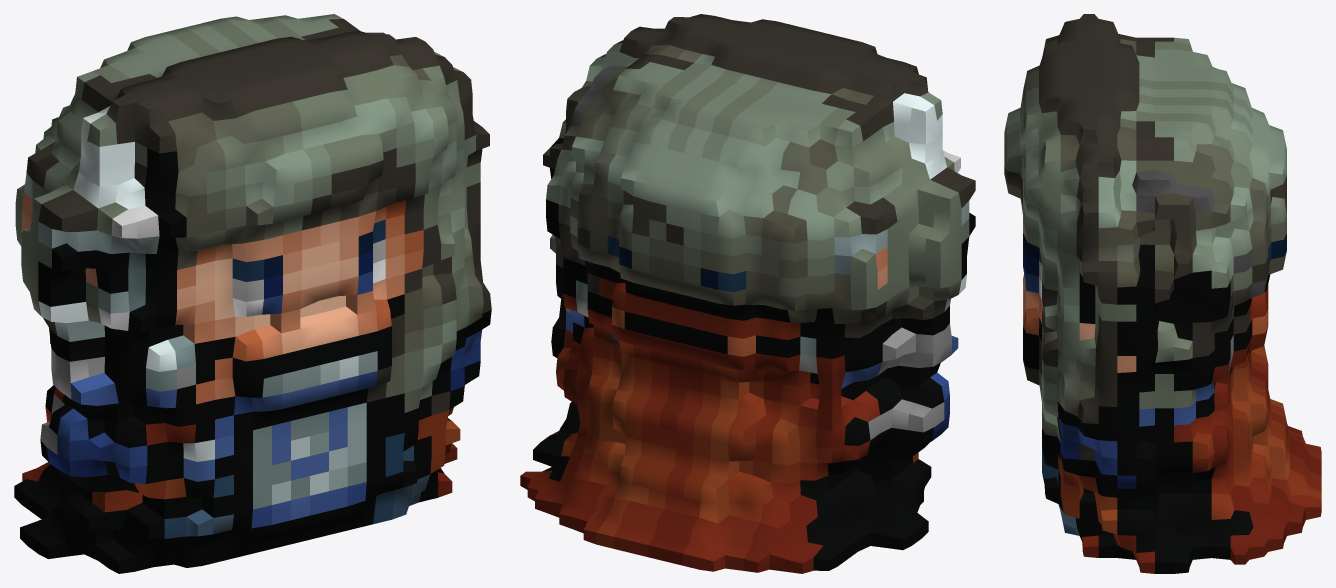
The model's file is Icon_111_01.obj.
3 views of the same model, side by side, from view 1: azimuth 30°, elevation 25°; view 2: azimuth 150°, elevation 25°; view 3: azimuth 270°, elevation 25° (orthographic). The views are drawn at different scales.
Bounding box in the file's own units: 2.3 × 2.4 × 1.68.
